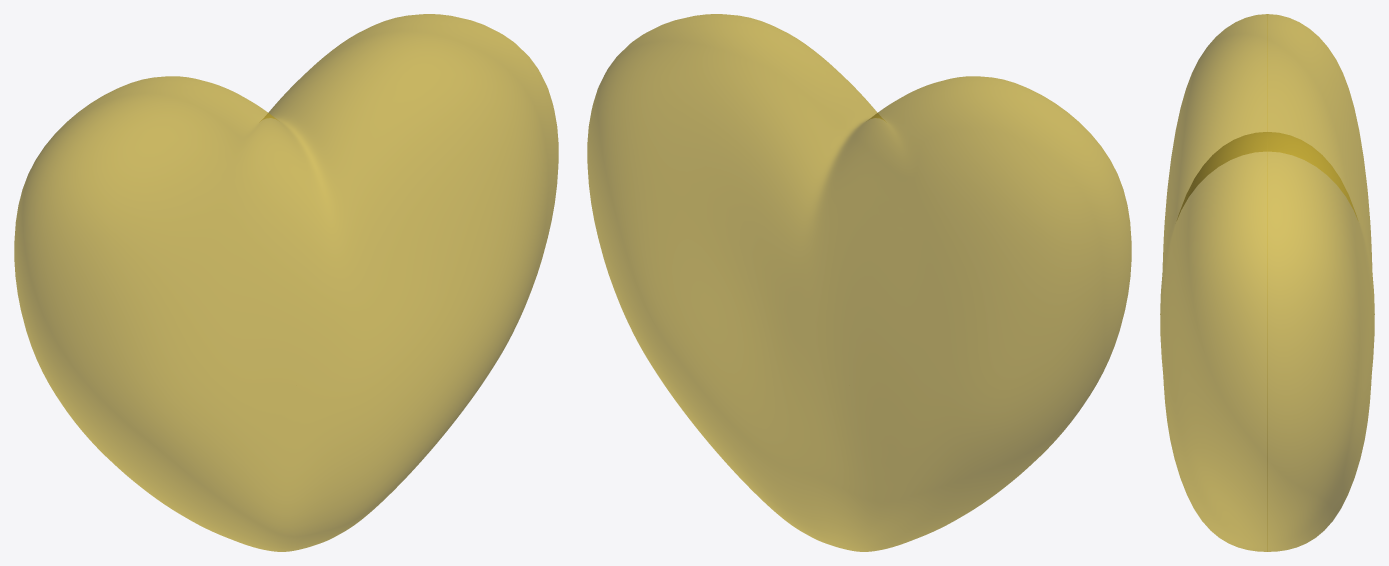
The model's file is tz-coracao-abacaxi.glb.
3 renders of one model, left to right at view 1: azimuth 30°, elevation 25°; view 2: azimuth 150°, elevation 25°; view 3: azimuth 270°, elevation 25°, orthographic. The views are drawn at different scales.
Visible parts, largest first — view 1: Coração.004; view 2: Coração.004; view 3: Coração.004.
Boxes of the visible parts, bbox=[...] form: Coração.004: bbox=[14, 14, 558, 551]; Coração.004: bbox=[587, 14, 1131, 551]; Coração.004: bbox=[1160, 14, 1374, 551].
Bounding box in the file's own units: 0.4002 × 0.3573 × 0.1513.
